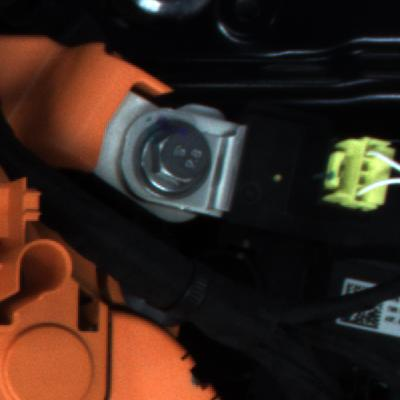nut_b: (130, 116, 220, 205)
